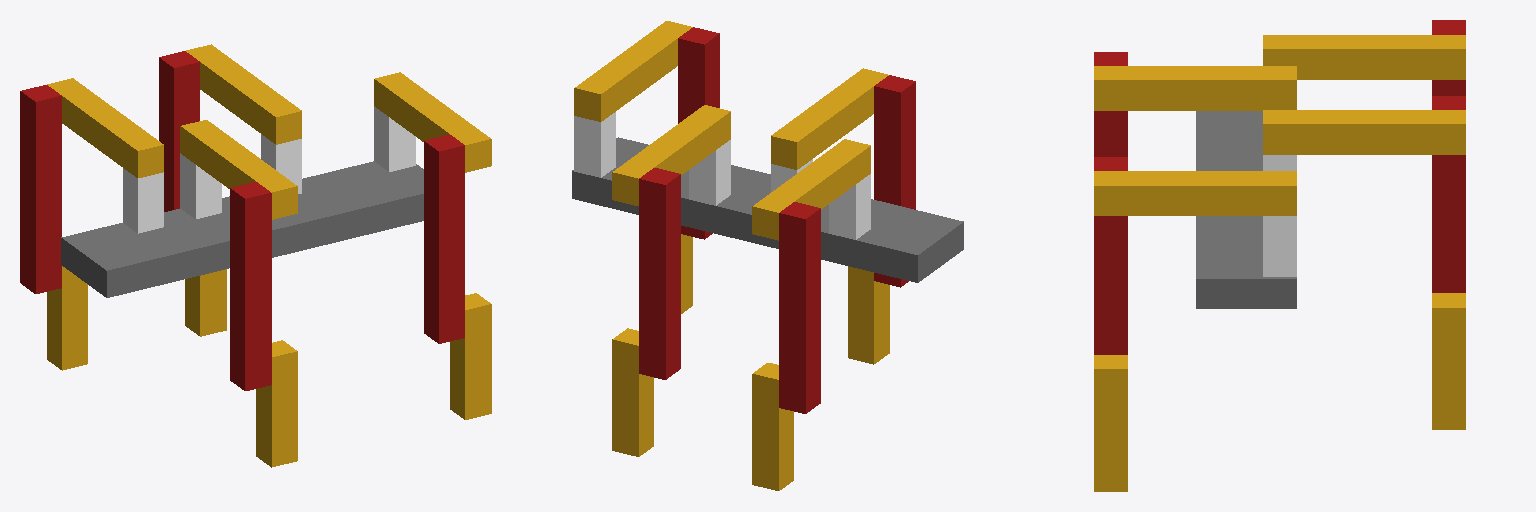
URDF robot description (v0):
<?xml version="1.0" encoding="utf-8"?>
<!-- =================================================================================== -->
<!-- |    This document was autogenerated by xacro from ../robots/v0variants/xacros/v0_4l_11.xacro | -->
<!-- |    EDITING THIS FILE BY HAND IS NOT RECOMMENDED                                 | -->
<!-- =================================================================================== -->
<robot name="v0">
  <material name="grey">
    <color rgba="0.5 0.5 0.5 1"/>
  </material>
  <material name="white">
    <color rgba="1 1 1 1"/>
  </material>
  <material name="yellow">
    <color rgba="0.91 0.7 0.14 1"/>
  </material>
  <material name="red">
    <color rgba="0.71 0.14 0.14 1"/>
  </material>
  <link name="body">
    <visual>
      <geometry>
        <box size="1.3 0.3 0.1"/>
      </geometry>
      <material name="grey"/>
      <origin rpy="0 0 0" xyz="0 0 0.7"/>
    </visual>
    <collision>
      <geometry>
        <box size="1.3 0.3 0.1"/>
      </geometry>
      <origin rpy="0 0 0" xyz="0 0 0.7"/>
    </collision>
    <inertial>
      <mass value="99.84"/>
      <inertia ixx="0.832" ixy="0.0" ixz="0.0" iyy="14.144" iyz="0.0" izz="14.8096"/>
    </inertial>
  </link>
  <link name="l1_segment_1">
    <visual>
      <geometry>
        <box size="0.1 0.1 0.2"/>
      </geometry>
      <material name="white"/>
      <origin rpy="0 0 0" xyz="0 0 0.1"/>
    </visual>
    <collision>
      <geometry>
        <box size="0.1 0.1 0.2"/>
      </geometry>
      <origin rpy="0 0 0" xyz="0 0 0.1"/>
    </collision>
    <inertial>
      <mass value="5.12"/>
      <inertia ixx="0.0213333333333" ixy="0.0" ixz="0.0" iyy="0.0213333333333" iyz="0.0" izz="0.00853333333333"/>
    </inertial>
  </link>
  <joint name="l1_base_to_joint_1" type="fixed">
    <parent link="body"/>
    <child link="l1_segment_1"/>
    <origin rpy="0 0 0" xyz="-0.36671650129231104 0.1 0.75"/>
  </joint>
  <link name="l1_segment_2_HIP">
    <visual>
      <geometry>
        <box size="0.1 0.6 0.1"/>
      </geometry>
      <material name="yellow"/>
      <origin rpy="0 0 0" xyz="0 0.25 0"/>
    </visual>
    <collision>
      <geometry>
        <box size="0.1 0.6 0.1"/>
      </geometry>
      <origin rpy="0 0 0" xyz="0 0.25 0"/>
    </collision>
    <inertial>
      <mass value="15.36"/>
      <inertia ixx="0.4736" ixy="0.0" ixz="0.0" iyy="0.0256" iyz="0.0" izz="0.4736"/>
    </inertial>
  </link>
  <joint name="l1_joint_1_to_2" type="revolute">
    <parent link="l1_segment_1"/>
    <child link="l1_segment_2_HIP"/>
    <origin rpy="0 0 0" xyz="0 0 0.25"/>
    <axis xyz="0.0 0.0 1.0"/>
    <limit effort="2048" lower="-1.2" upper="1.2" velocity="20"/>
  </joint>
  <link name="l1_segment_3_THIGH">
    <visual>
      <geometry>
        <box size="0.1 0.1 0.7"/>
      </geometry>
      <material name="red"/>
      <origin rpy="0 0 0" xyz="0 0 -0.3"/>
    </visual>
    <collision>
      <geometry>
        <box size="0.1 0.1 0.7"/>
      </geometry>
      <origin rpy="0 0 0" xyz="0 0 -0.3"/>
    </collision>
    <inertial>
      <mass value="17.92"/>
      <inertia ixx="0.746666666667" ixy="0.0" ixz="0.0" iyy="0.746666666667" iyz="0.0" izz="0.0298666666667"/>
    </inertial>
  </link>
  <joint name="l1_joint_2_to_3" type="revolute">
    <parent link="l1_segment_2_HIP"/>
    <child link="l1_segment_3_THIGH"/>
    <origin rpy="0 0 0" xyz="-0.1 0.5 0"/>
    <axis xyz="1.0 0.0 0.0"/>
    <limit effort="2048" lower="-0.2" upper="0.75" velocity="20"/>
  </joint>
  <link name="l1_segment_4_FOOT">
    <visual>
      <geometry>
        <box size="0.1 0.1 0.4"/>
      </geometry>
      <material name="yellow"/>
      <origin rpy="0 0 0" xyz="0 0 -0.2"/>
    </visual>
    <collision>
      <geometry>
        <box size="0.1 0.1 0.4"/>
      </geometry>
      <origin rpy="0 0 0" xyz="0 0 -0.2"/>
    </collision>
    <inertial>
      <mass value="10.24"/>
      <inertia ixx="0.145066666667" ixy="0.0" ixz="0.0" iyy="0.145066666667" iyz="0.0" izz="0.0170666666667"/>
    </inertial>
  </link>
  <joint name="l1_joint_3_to_4_FOOT" type="revolute">
    <parent link="l1_segment_3_THIGH"/>
    <child link="l1_segment_4_FOOT"/>
    <origin rpy="0 0 0" xyz="0.1 0 -0.55"/>
    <axis xyz="1.0 0.0 0.0"/>
    <limit effort="2048" lower="-0.2" upper="0.5" velocity="20"/>
  </joint>
  <link name="r2_segment_1">
    <visual>
      <geometry>
        <box size="0.1 0.1 0.2"/>
      </geometry>
      <material name="white"/>
      <origin rpy="0 0 0" xyz="0 0 0.1"/>
    </visual>
    <collision>
      <geometry>
        <box size="0.1 0.1 0.2"/>
      </geometry>
      <origin rpy="0 0 0" xyz="0 0 0.1"/>
    </collision>
    <inertial>
      <mass value="5.12"/>
      <inertia ixx="0.0213333333333" ixy="0.0" ixz="0.0" iyy="0.0213333333333" iyz="0.0" izz="0.00853333333333"/>
    </inertial>
  </link>
  <joint name="r2_base_to_joint_1" type="fixed">
    <parent link="body"/>
    <child link="r2_segment_1"/>
    <origin rpy="0 0 0" xyz="-0.1467776308551415 0.1 0.75"/>
  </joint>
  <link name="r2_segment_2_HIP">
    <visual>
      <geometry>
        <box size="0.1 0.6 0.1"/>
      </geometry>
      <material name="yellow"/>
      <origin rpy="0 0 0" xyz="0 -0.25 0"/>
    </visual>
    <collision>
      <geometry>
        <box size="0.1 0.6 0.1"/>
      </geometry>
      <origin rpy="0 0 0" xyz="0 -0.25 0"/>
    </collision>
    <inertial>
      <mass value="15.36"/>
      <inertia ixx="0.4736" ixy="0.0" ixz="0.0" iyy="0.0256" iyz="0.0" izz="0.4736"/>
    </inertial>
  </link>
  <joint name="r2_joint_1_to_2" type="revolute">
    <parent link="r2_segment_1"/>
    <child link="r2_segment_2_HIP"/>
    <origin rpy="0 0 0" xyz="0 0 0.25"/>
    <axis xyz="0.0 0.0 1.0"/>
    <limit effort="2048" lower="-1.2" upper="1.2" velocity="20"/>
  </joint>
  <link name="r2_segment_3_THIGH">
    <visual>
      <geometry>
        <box size="0.1 0.1 0.7"/>
      </geometry>
      <material name="red"/>
      <origin rpy="0 0 0" xyz="0 0 -0.3"/>
    </visual>
    <collision>
      <geometry>
        <box size="0.1 0.1 0.7"/>
      </geometry>
      <origin rpy="0 0 0" xyz="0 0 -0.3"/>
    </collision>
    <inertial>
      <mass value="17.92"/>
      <inertia ixx="0.746666666667" ixy="0.0" ixz="0.0" iyy="0.746666666667" iyz="0.0" izz="0.0298666666667"/>
    </inertial>
  </link>
  <joint name="r2_joint_2_to_3" type="revolute">
    <parent link="r2_segment_2_HIP"/>
    <child link="r2_segment_3_THIGH"/>
    <origin rpy="0 0 0" xyz="-0.1 -0.5 0"/>
    <axis xyz="1.0 0.0 0.0"/>
    <limit effort="2048" lower="-0.75" upper="0.2" velocity="20"/>
  </joint>
  <link name="r2_segment_4_FOOT">
    <visual>
      <geometry>
        <box size="0.1 0.1 0.4"/>
      </geometry>
      <material name="yellow"/>
      <origin rpy="0 0 0" xyz="0 0 -0.2"/>
    </visual>
    <collision>
      <geometry>
        <box size="0.1 0.1 0.4"/>
      </geometry>
      <origin rpy="0 0 0" xyz="0 0 -0.2"/>
    </collision>
    <inertial>
      <mass value="10.24"/>
      <inertia ixx="0.145066666667" ixy="0.0" ixz="0.0" iyy="0.145066666667" iyz="0.0" izz="0.0170666666667"/>
    </inertial>
  </link>
  <joint name="r2_joint_3_to_4_FOOT" type="revolute">
    <parent link="r2_segment_3_THIGH"/>
    <child link="r2_segment_4_FOOT"/>
    <origin rpy="0 0 0" xyz="0.1 0 -0.55"/>
    <axis xyz="1.0 0.0 0.0"/>
    <limit effort="2048" lower="-0.5" upper="0.2" velocity="20"/>
  </joint>
  <link name="l3_segment_1">
    <visual>
      <geometry>
        <box size="0.1 0.1 0.2"/>
      </geometry>
      <material name="white"/>
      <origin rpy="0 0 0" xyz="0 0 0.1"/>
    </visual>
    <collision>
      <geometry>
        <box size="0.1 0.1 0.2"/>
      </geometry>
      <origin rpy="0 0 0" xyz="0 0 0.1"/>
    </collision>
    <inertial>
      <mass value="5.12"/>
      <inertia ixx="0.0213333333333" ixy="0.0" ixz="0.0" iyy="0.0213333333333" iyz="0.0" izz="0.00853333333333"/>
    </inertial>
  </link>
  <joint name="l3_base_to_joint_1" type="fixed">
    <parent link="body"/>
    <child link="l3_segment_1"/>
    <origin rpy="0 0 0" xyz="0.15941290892224338 0.1 0.75"/>
  </joint>
  <link name="l3_segment_2_HIP">
    <visual>
      <geometry>
        <box size="0.1 0.6 0.1"/>
      </geometry>
      <material name="yellow"/>
      <origin rpy="0 0 0" xyz="0 0.25 0"/>
    </visual>
    <collision>
      <geometry>
        <box size="0.1 0.6 0.1"/>
      </geometry>
      <origin rpy="0 0 0" xyz="0 0.25 0"/>
    </collision>
    <inertial>
      <mass value="15.36"/>
      <inertia ixx="0.4736" ixy="0.0" ixz="0.0" iyy="0.0256" iyz="0.0" izz="0.4736"/>
    </inertial>
  </link>
  <joint name="l3_joint_1_to_2" type="revolute">
    <parent link="l3_segment_1"/>
    <child link="l3_segment_2_HIP"/>
    <origin rpy="0 0 0" xyz="0 0 0.25"/>
    <axis xyz="0.0 0.0 1.0"/>
    <limit effort="2048" lower="-1.2" upper="1.2" velocity="20"/>
  </joint>
  <link name="l3_segment_3_THIGH">
    <visual>
      <geometry>
        <box size="0.1 0.1 0.7"/>
      </geometry>
      <material name="red"/>
      <origin rpy="0 0 0" xyz="0 0 -0.3"/>
    </visual>
    <collision>
      <geometry>
        <box size="0.1 0.1 0.7"/>
      </geometry>
      <origin rpy="0 0 0" xyz="0 0 -0.3"/>
    </collision>
    <inertial>
      <mass value="17.92"/>
      <inertia ixx="0.746666666667" ixy="0.0" ixz="0.0" iyy="0.746666666667" iyz="0.0" izz="0.0298666666667"/>
    </inertial>
  </link>
  <joint name="l3_joint_2_to_3" type="revolute">
    <parent link="l3_segment_2_HIP"/>
    <child link="l3_segment_3_THIGH"/>
    <origin rpy="0 0 0" xyz="-0.1 0.5 0"/>
    <axis xyz="1.0 0.0 0.0"/>
    <limit effort="2048" lower="-0.2" upper="0.75" velocity="20"/>
  </joint>
  <link name="l3_segment_4_FOOT">
    <visual>
      <geometry>
        <box size="0.1 0.1 0.4"/>
      </geometry>
      <material name="yellow"/>
      <origin rpy="0 0 0" xyz="0 0 -0.2"/>
    </visual>
    <collision>
      <geometry>
        <box size="0.1 0.1 0.4"/>
      </geometry>
      <origin rpy="0 0 0" xyz="0 0 -0.2"/>
    </collision>
    <inertial>
      <mass value="10.24"/>
      <inertia ixx="0.145066666667" ixy="0.0" ixz="0.0" iyy="0.145066666667" iyz="0.0" izz="0.0170666666667"/>
    </inertial>
  </link>
  <joint name="l3_joint_3_to_4_FOOT" type="revolute">
    <parent link="l3_segment_3_THIGH"/>
    <child link="l3_segment_4_FOOT"/>
    <origin rpy="0 0 0" xyz="0.1 0 -0.55"/>
    <axis xyz="1.0 0.0 0.0"/>
    <limit effort="2048" lower="-0.2" upper="0.5" velocity="20"/>
  </joint>
  <link name="r4_segment_1">
    <visual>
      <geometry>
        <box size="0.1 0.1 0.2"/>
      </geometry>
      <material name="white"/>
      <origin rpy="0 0 0" xyz="0 0 0.1"/>
    </visual>
    <collision>
      <geometry>
        <box size="0.1 0.1 0.2"/>
      </geometry>
      <origin rpy="0 0 0" xyz="0 0 0.1"/>
    </collision>
    <inertial>
      <mass value="5.12"/>
      <inertia ixx="0.0213333333333" ixy="0.0" ixz="0.0" iyy="0.0213333333333" iyz="0.0" izz="0.00853333333333"/>
    </inertial>
  </link>
  <joint name="r4_base_to_joint_1" type="fixed">
    <parent link="body"/>
    <child link="r4_segment_1"/>
    <origin rpy="0 0 0" xyz="0.5903039899448984 0.1 0.75"/>
  </joint>
  <link name="r4_segment_2_HIP">
    <visual>
      <geometry>
        <box size="0.1 0.6 0.1"/>
      </geometry>
      <material name="yellow"/>
      <origin rpy="0 0 0" xyz="0 -0.25 0"/>
    </visual>
    <collision>
      <geometry>
        <box size="0.1 0.6 0.1"/>
      </geometry>
      <origin rpy="0 0 0" xyz="0 -0.25 0"/>
    </collision>
    <inertial>
      <mass value="15.36"/>
      <inertia ixx="0.4736" ixy="0.0" ixz="0.0" iyy="0.0256" iyz="0.0" izz="0.4736"/>
    </inertial>
  </link>
  <joint name="r4_joint_1_to_2" type="revolute">
    <parent link="r4_segment_1"/>
    <child link="r4_segment_2_HIP"/>
    <origin rpy="0 0 0" xyz="0 0 0.25"/>
    <axis xyz="0.0 0.0 1.0"/>
    <limit effort="2048" lower="-1.2" upper="1.2" velocity="20"/>
  </joint>
  <link name="r4_segment_3_THIGH">
    <visual>
      <geometry>
        <box size="0.1 0.1 0.7"/>
      </geometry>
      <material name="red"/>
      <origin rpy="0 0 0" xyz="0 0 -0.3"/>
    </visual>
    <collision>
      <geometry>
        <box size="0.1 0.1 0.7"/>
      </geometry>
      <origin rpy="0 0 0" xyz="0 0 -0.3"/>
    </collision>
    <inertial>
      <mass value="17.92"/>
      <inertia ixx="0.746666666667" ixy="0.0" ixz="0.0" iyy="0.746666666667" iyz="0.0" izz="0.0298666666667"/>
    </inertial>
  </link>
  <joint name="r4_joint_2_to_3" type="revolute">
    <parent link="r4_segment_2_HIP"/>
    <child link="r4_segment_3_THIGH"/>
    <origin rpy="0 0 0" xyz="-0.1 -0.5 0"/>
    <axis xyz="1.0 0.0 0.0"/>
    <limit effort="2048" lower="-0.75" upper="0.2" velocity="20"/>
  </joint>
  <link name="r4_segment_4_FOOT">
    <visual>
      <geometry>
        <box size="0.1 0.1 0.4"/>
      </geometry>
      <material name="yellow"/>
      <origin rpy="0 0 0" xyz="0 0 -0.2"/>
    </visual>
    <collision>
      <geometry>
        <box size="0.1 0.1 0.4"/>
      </geometry>
      <origin rpy="0 0 0" xyz="0 0 -0.2"/>
    </collision>
    <inertial>
      <mass value="10.24"/>
      <inertia ixx="0.145066666667" ixy="0.0" ixz="0.0" iyy="0.145066666667" iyz="0.0" izz="0.0170666666667"/>
    </inertial>
  </link>
  <joint name="r4_joint_3_to_4_FOOT" type="revolute">
    <parent link="r4_segment_3_THIGH"/>
    <child link="r4_segment_4_FOOT"/>
    <origin rpy="0 0 0" xyz="0.1 0 -0.55"/>
    <axis xyz="1.0 0.0 0.0"/>
    <limit effort="2048" lower="-0.5" upper="0.2" velocity="20"/>
  </joint>
</robot>

--- Render facts (derived) ---
3 views of the same robot in one strip: view 1: azimuth 30°, elevation 25°; view 2: azimuth 150°, elevation 25°; view 3: azimuth 270°, elevation 25° (orthographic).
Robot: v0 — 17 links, 16 joints (12 revolute, 4 fixed); root link body; default pose: all joints at 0.
Visible links, largest first — view 1: body, r2_segment_3_THIGH, l1_segment_3_THIGH, r4_segment_3_THIGH, l1_segment_2_HIP, l3_segment_2_HIP, r4_segment_2_HIP, r2_segment_2_HIP, r4_segment_4_FOOT, r2_segment_4_FOOT, l3_segment_3_THIGH, l1_segment_4_FOOT (+5 smaller); view 2: body, l3_segment_3_THIGH, l1_segment_3_THIGH, r2_segment_3_THIGH, r4_segment_2_HIP, r2_segment_2_HIP, l3_segment_2_HIP, l1_segment_2_HIP, l1_segment_4_FOOT, l3_segment_4_FOOT, r4_segment_3_THIGH, r2_segment_4_FOOT (+4 smaller); view 3: body, l3_segment_2_HIP, r4_segment_2_HIP, r2_segment_2_HIP, l1_segment_2_HIP, r4_segment_3_THIGH, l3_segment_3_THIGH, l3_segment_4_FOOT, r4_segment_4_FOOT, r4_segment_1, r2_segment_3_THIGH, l1_segment_3_THIGH (+1 smaller).
Link boxes in pixels (x1=…): body: x1=61, y1=161, x2=423, y2=297; r2_segment_3_THIGH: x1=230, y1=182, x2=271, y2=390; l1_segment_3_THIGH: x1=20, y1=85, x2=61, y2=293; r4_segment_3_THIGH: x1=424, y1=134, x2=464, y2=343; l1_segment_2_HIP: x1=47, y1=78, x2=163, y2=177; l3_segment_2_HIP: x1=186, y1=44, x2=301, y2=144; r4_segment_2_HIP: x1=374, y1=72, x2=491, y2=172; r2_segment_2_HIP: x1=180, y1=120, x2=297, y2=219; r4_segment_4_FOOT: x1=450, y1=293, x2=491, y2=419; r2_segment_4_FOOT: x1=256, y1=340, x2=297, y2=467; l3_segment_3_THIGH: x1=159, y1=51, x2=199, y2=211; l1_segment_4_FOOT: x1=47, y1=266, x2=87, y2=370; body: x1=572, y1=137, x2=963, y2=282; l3_segment_3_THIGH: x1=639, y1=168, x2=680, y2=379; l1_segment_3_THIGH: x1=779, y1=202, x2=820, y2=413; r2_segment_3_THIGH: x1=874, y1=75, x2=915, y2=287; r4_segment_2_HIP: x1=574, y1=21, x2=692, y2=121; r2_segment_2_HIP: x1=771, y1=68, x2=888, y2=169; l3_segment_2_HIP: x1=612, y1=105, x2=730, y2=205; l1_segment_2_HIP: x1=752, y1=139, x2=870, y2=240; l1_segment_4_FOOT: x1=752, y1=363, x2=793, y2=490; l3_segment_4_FOOT: x1=612, y1=328, x2=653, y2=456; r4_segment_3_THIGH: x1=678, y1=27, x2=719, y2=239; r2_segment_4_FOOT: x1=848, y1=266, x2=889, y2=364; body: x1=1196, y1=111, x2=1296, y2=308; l3_segment_2_HIP: x1=1263, y1=110, x2=1465, y2=154; r4_segment_2_HIP: x1=1094, y1=171, x2=1296, y2=215; r2_segment_2_HIP: x1=1094, y1=66, x2=1296, y2=110; l1_segment_2_HIP: x1=1263, y1=35, x2=1465, y2=79; r4_segment_3_THIGH: x1=1094, y1=157, x2=1127, y2=354; l3_segment_3_THIGH: x1=1432, y1=96, x2=1465, y2=292; l3_segment_4_FOOT: x1=1432, y1=293, x2=1465, y2=429; r4_segment_4_FOOT: x1=1094, y1=355, x2=1127, y2=491; r4_segment_1: x1=1263, y1=216, x2=1296, y2=276; r2_segment_3_THIGH: x1=1094, y1=52, x2=1127, y2=156; l1_segment_3_THIGH: x1=1432, y1=20, x2=1465, y2=95.
Bounding box of the posed robot: 1.3 × 1.1 × 1 m (x, y, z).
Geometry: primitives only (box / cylinder / sphere), no mesh files.